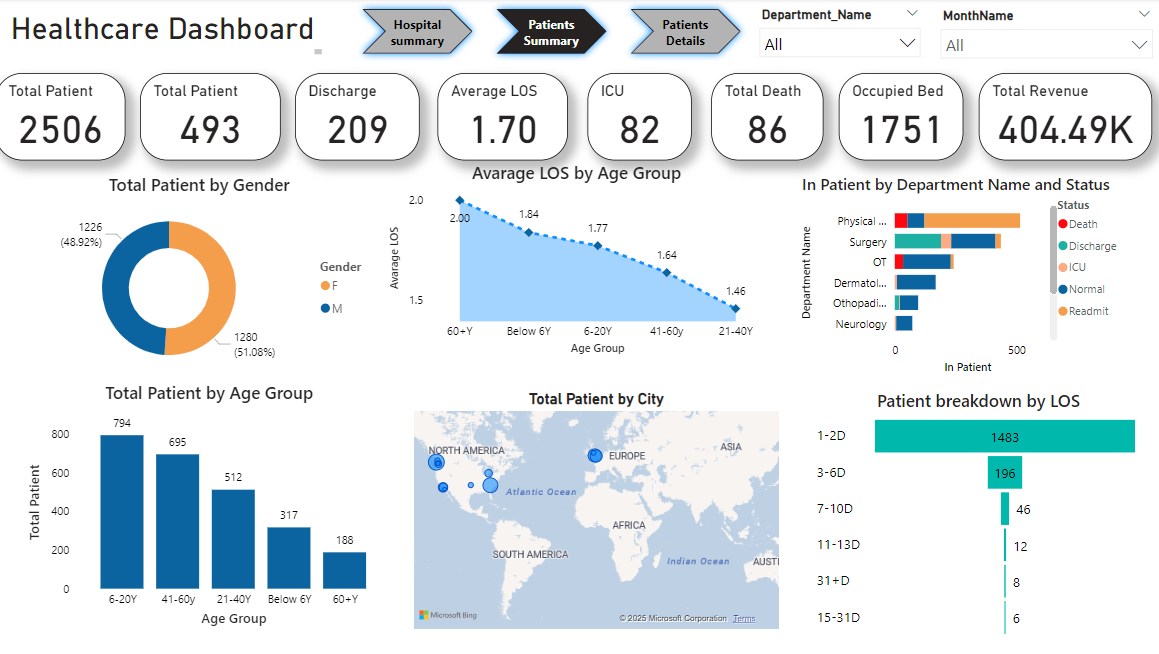

What the dashboard file says about the page in this screenshot:
{"tool":"powerbi","page":{"name":"Patients Summary ","canvas":[1280,720],"ordinal":1},"visuals":[{"type":"map","fields":{"Category":["Detail data dataset.City"],"Size":["Measure_table.Total Patient"]},"box":[456,429.1,409.5,267.7],"z":0},{"type":"funnel","title":"Patient breakdown by LOS","fields":{"Y":["Measure_table.Total Patient"],"Category":["Detail data dataset.Custom"]},"box":[897.2,429.1,364.3,277.5],"z":1000},{"type":"columnChart","fields":{"Y":["Measure_table.Total Patient"],"Category":["Detail data dataset.Age Bucket"]},"box":[31.4,420,407.1,275.7],"z":2000},{"type":"donutChart","fields":{"Category":["Detail data dataset.Gender"],"Y":["Measure_table.Total Patient"]},"box":[20.8,191.9,407.1,228.6],"z":3000},{"type":"areaChart","fields":{"Y":["Measure_table.Avarage LOS"],"Category":["Detail data dataset.Age Bucket"]},"box":[427.8,178.5,420.5,218.8],"z":4000},{"type":"barChart","fields":{"Category":["Department.Department_Name"],"Y":["Measure_table.In Patient"],"Series":["Detail data dataset.Status"]},"box":[881.4,191.9,364.3,226.1],"z":5000},{"type":"textbox","title":"Healthcare Dashboard","box":[12.9,14.3,351.4,52.9],"z":5001},{"type":"pageNavigator","box":[395.7,4.3,432.9,65.7],"z":5002},{"type":"slicer","fields":{"Values":["Department.Department_Name"]},"box":[828.6,4.3,197.1,70],"z":5003},{"type":"slicer","fields":{"Values":["Calendar_date.MonthName"]},"box":[1027.1,5.7,252.9,70],"z":5004},{"type":"card","title":"Total Patient","fields":{"Values":["Measure_table.Total Patient"]},"box":[0,82.9,142.9,95.7],"z":5005},{"type":"card","title":"Total Patient","fields":{"Values":["Measure_table.Readmit"]},"box":[158.6,82.9,154.3,95.7],"z":5006},{"type":"card","title":"Discharge","fields":{"Values":["Bed_Detail.Discharge"]},"box":[330,82.9,137.1,95.7],"z":5009},{"type":"card","title":"Average LOS","fields":{"Values":["Measure_table.Avarage LOS"]},"box":[485.7,82.9,142.9,95.7],"z":5010},{"type":"card","title":"ICU","fields":{"Values":["Measure_table.ICU"]},"box":[650,82.9,114.3,95.7],"z":5011},{"type":"card","title":"Total Death","fields":{"Values":["Measure_table.Death"]},"box":[785.7,82.9,122.9,95.7],"z":5012},{"type":"card","title":"Occupied Bed","fields":{"Values":["Measure_table.Occupied Bed"]},"box":[925.7,82.9,137.1,95.7],"z":5013},{"type":"card","title":"Total Revenue","fields":{"Values":["Measure_table.Total Revenue"]},"box":[1080,82.9,190,95.7],"z":5014}]}

Visuals, with their boxes in screenshot pixels (x1, y1, x2, y2), scaled from the page's 1280x720 canvas onto the 1159x654 screenshot:
map - Detail data dataset.City x Measure_table.Total Patient: detection(413, 390, 784, 633)
"Patient breakdown by LOS" funnel: detection(812, 390, 1142, 642)
columnChart - Measure_table.Total Patient x Detail data dataset.Age Bucket: detection(28, 382, 397, 632)
donutChart - Detail data dataset.Gender x Measure_table.Total Patient: detection(19, 174, 387, 382)
areaChart - Measure_table.Avarage LOS x Detail data dataset.Age Bucket: detection(387, 162, 768, 361)
barChart - Department.Department_Name x Measure_table.In Patient: detection(798, 174, 1128, 380)
"Healthcare Dashboard" textbox: detection(12, 13, 330, 61)
pageNavigator: detection(358, 4, 750, 64)
slicer - Department.Department_Name: detection(750, 4, 929, 67)
slicer - Calendar_date.MonthName: detection(930, 5, 1158, 69)
"Total Patient" card: detection(0, 75, 129, 162)
"Total Patient" card: detection(144, 75, 283, 162)
"Discharge" card: detection(299, 75, 423, 162)
"Average LOS" card: detection(440, 75, 569, 162)
"ICU" card: detection(589, 75, 692, 162)
"Total Death" card: detection(711, 75, 823, 162)
"Occupied Bed" card: detection(838, 75, 962, 162)
"Total Revenue" card: detection(978, 75, 1150, 162)
